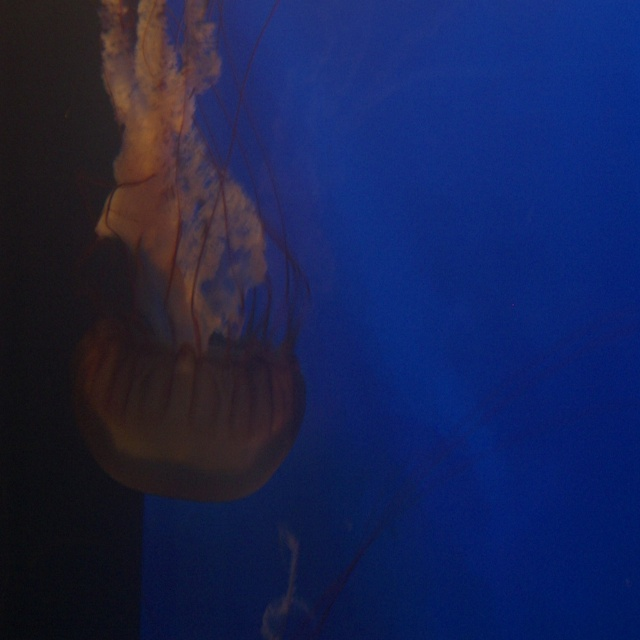Jellyfish: (0, 3, 314, 503)
